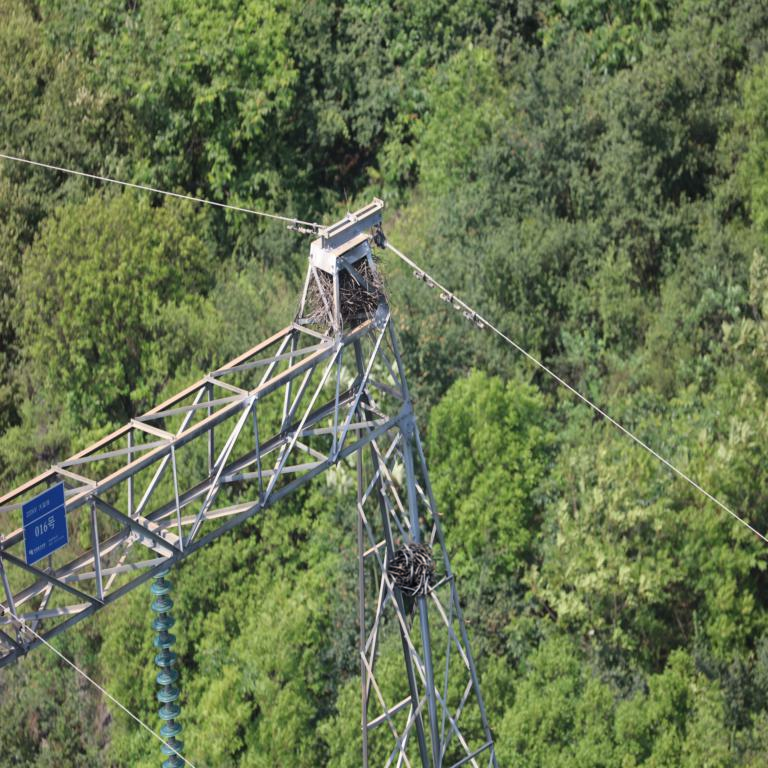nest: (307, 269, 384, 328), (388, 542, 432, 606)
